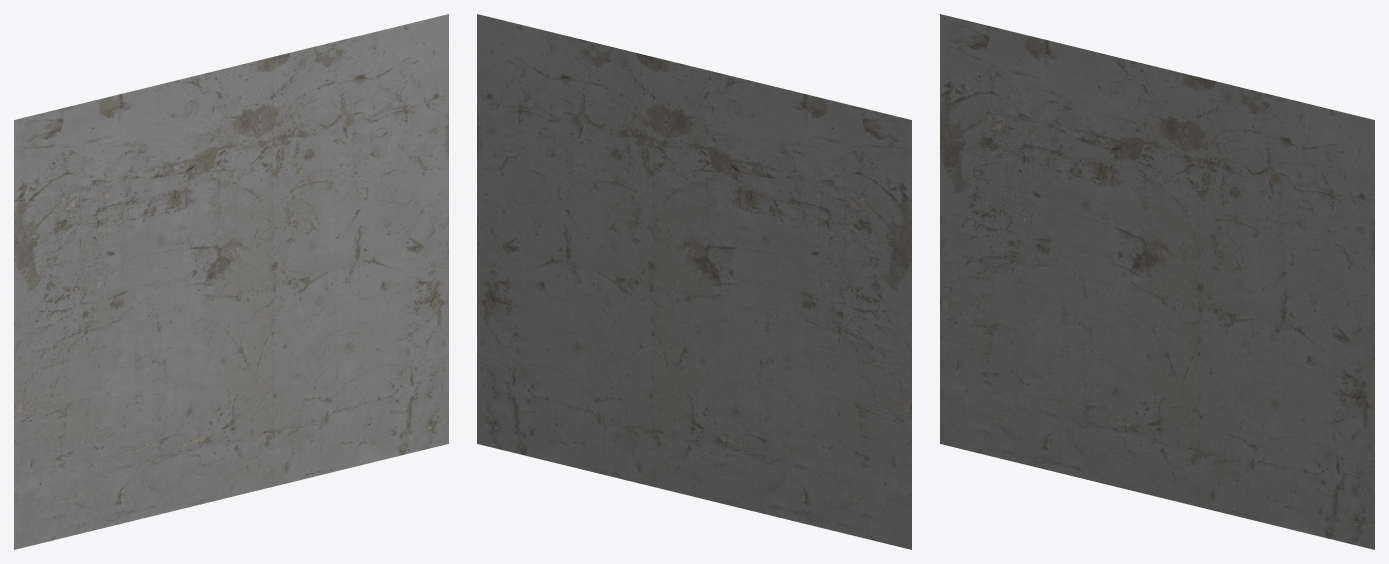
File: sm_TileWall_01_03.fbx
3 renders of one model, left to right at view 1: azimuth 30°, elevation 25°; view 2: azimuth 150°, elevation 25°; view 3: azimuth 330°, elevation 25°, orthographic.
Parts seen in each view (by area): view 1: sm_TileWall_01_03_LOD0; view 2: sm_TileWall_01_03_LOD0; view 3: sm_TileWall_01_03_LOD0.
Boxes of the visible parts, box(x1,y1,x2,y2) form: sm_TileWall_01_03_LOD0: box(14, 14, 448, 549); sm_TileWall_01_03_LOD0: box(477, 14, 911, 549); sm_TileWall_01_03_LOD0: box(940, 14, 1374, 549).
Size of the model in its own units: 7.77e-05 by 360 by 340.
